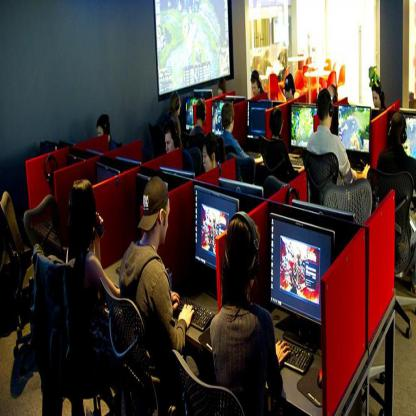face: (161, 198, 170, 243), (204, 146, 213, 174), (166, 133, 175, 160), (98, 125, 106, 147), (373, 90, 381, 109), (286, 86, 291, 103), (231, 115, 235, 134), (253, 83, 258, 98), (219, 86, 224, 99)
